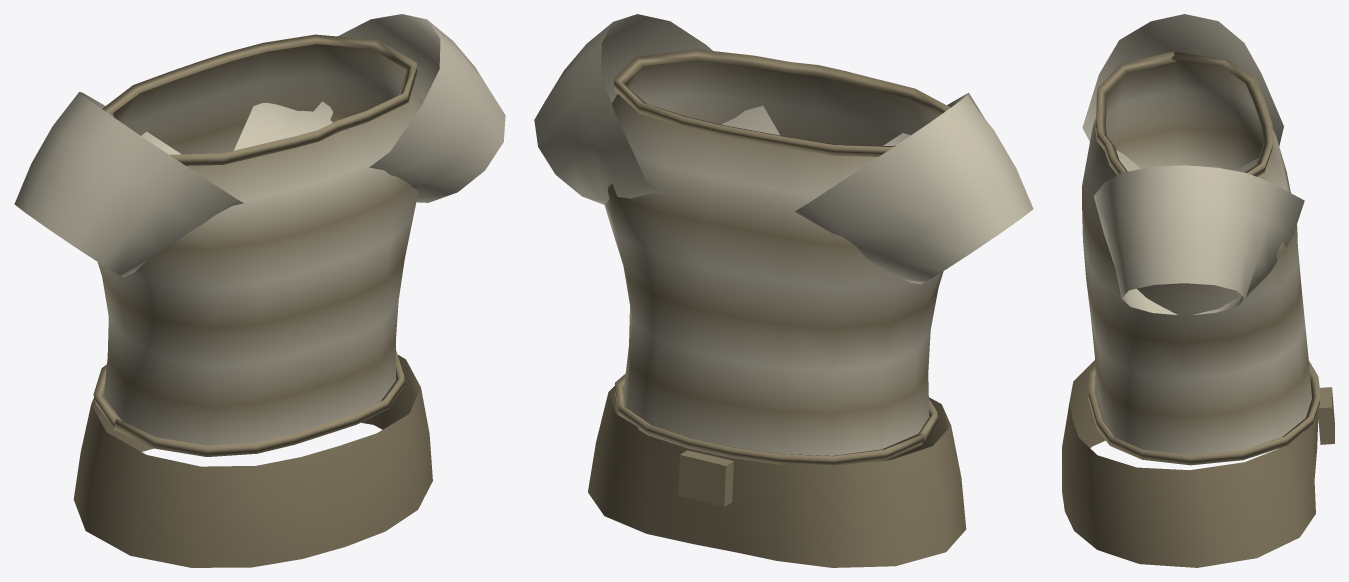
Rendered from necro_breastplate.glb.
3 views of the same model, side by side, from view 1: azimuth 30°, elevation 25°; view 2: azimuth 150°, elevation 25°; view 3: azimuth 270°, elevation 25° (orthographic). The views are drawn at different scales.
Parts seen in each view (by area): view 1: necro_breastplate_chest; view 2: necro_breastplate_chest; view 3: necro_breastplate_chest.
Part boxes in pixels (box(x1,y1,x2,y2)): necro_breastplate_chest: box(14, 14, 505, 567); necro_breastplate_chest: box(534, 14, 1033, 567); necro_breastplate_chest: box(1062, 14, 1334, 567).
Bounding box in the file's own units: 0.6233 × 0.5645 × 0.3387.
